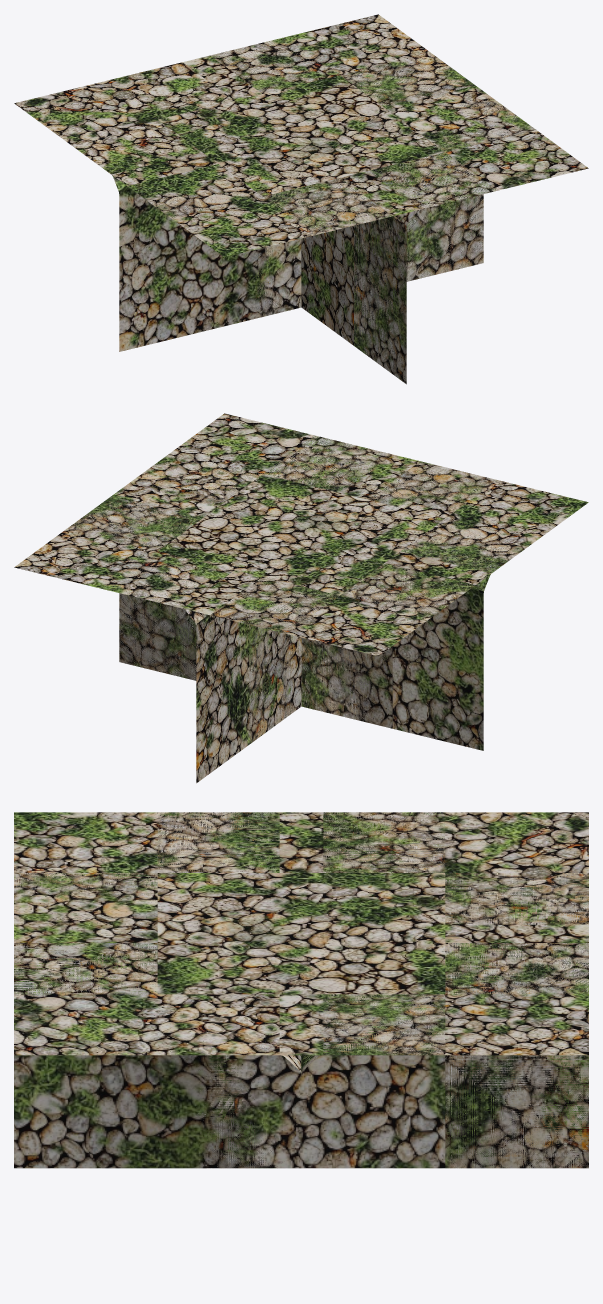
The model's file is GardenBlock.glb.
3 renders of one model, top to bottom at view 1: azimuth 30°, elevation 25°; view 2: azimuth 150°, elevation 25°; view 3: azimuth 270°, elevation 25°, orthographic. The views are drawn at different scales.
Visible parts, largest first — view 1: TR, TL, C, BL, BR, T, L, R, B; view 2: BR, C, BL, TL, TR, R, T, B, L; view 3: TL, BR, L, C, BL, TR, B, T, R.
Part boxes in pixels (bbox=[...]): TR: bbox=[119, 164, 406, 383]; TL: bbox=[354, 97, 588, 384]; C: bbox=[158, 75, 444, 196]; BL: bbox=[210, 14, 483, 281]; BR: bbox=[14, 62, 234, 193]; T: bbox=[253, 152, 495, 318]; L: bbox=[340, 53, 535, 151]; R: bbox=[111, 152, 353, 345]; B: bbox=[126, 39, 337, 118]; BR: bbox=[196, 563, 483, 783]; C: bbox=[158, 474, 444, 595]; BL: bbox=[14, 496, 248, 692]; TL: bbox=[119, 413, 391, 679]; TR: bbox=[301, 461, 588, 712]; R: bbox=[249, 522, 522, 743]; T: bbox=[264, 436, 496, 518]; B: bbox=[107, 553, 392, 728]; L: bbox=[67, 454, 301, 720]; TL: bbox=[14, 943, 301, 1168]; BR: bbox=[323, 812, 588, 1168]; L: bbox=[170, 994, 445, 1168]; C: bbox=[157, 873, 445, 994]; BL: bbox=[301, 943, 588, 1168]; TR: bbox=[14, 812, 279, 1129]; B: bbox=[445, 873, 588, 994]; T: bbox=[14, 873, 157, 994]; R: bbox=[157, 812, 445, 872].
Bounding box in the file's own units: 1.33 × 0.6 × 1.33.
1 material, 1 textured.
